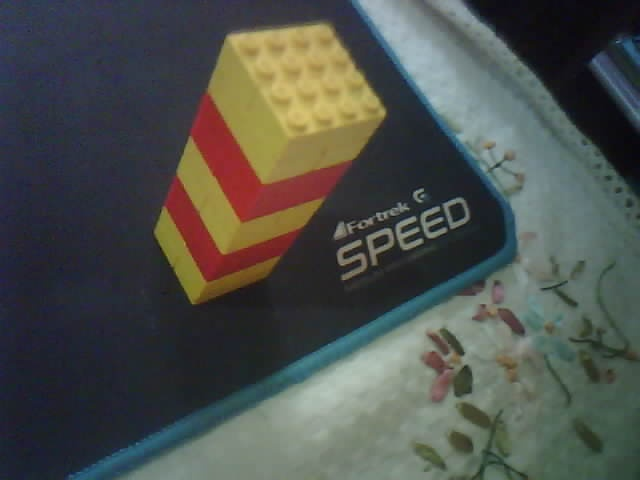lego: (152, 20, 388, 307)
